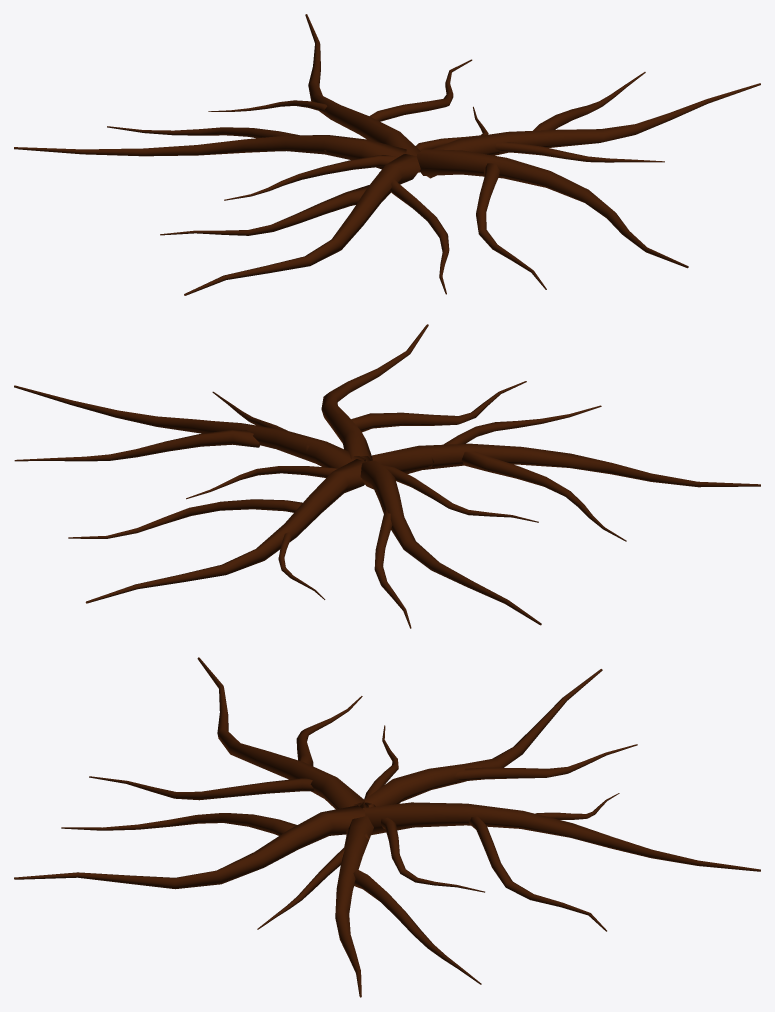
Rendered from trap.fbx.
3 views of the same model, one above another, from view 1: azimuth 30°, elevation 25°; view 2: azimuth 150°, elevation 25°; view 3: azimuth 270°, elevation 25° (orthographic). The views are drawn at different scales.
Visible parts, largest first — view 1: BezierCurve; view 2: BezierCurve; view 3: BezierCurve.
Boxes of the visible parts, x1,y1,x2,y2 form: BezierCurve: [14, 14, 760, 295]; BezierCurve: [14, 324, 760, 628]; BezierCurve: [14, 657, 760, 997].
Size of the model in its own units: 161 by 10.38 by 153.
